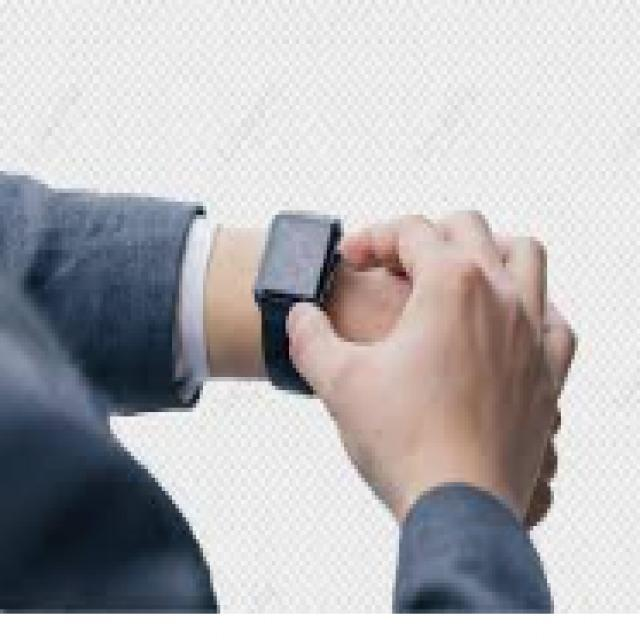Watch: (251, 207, 342, 396)
